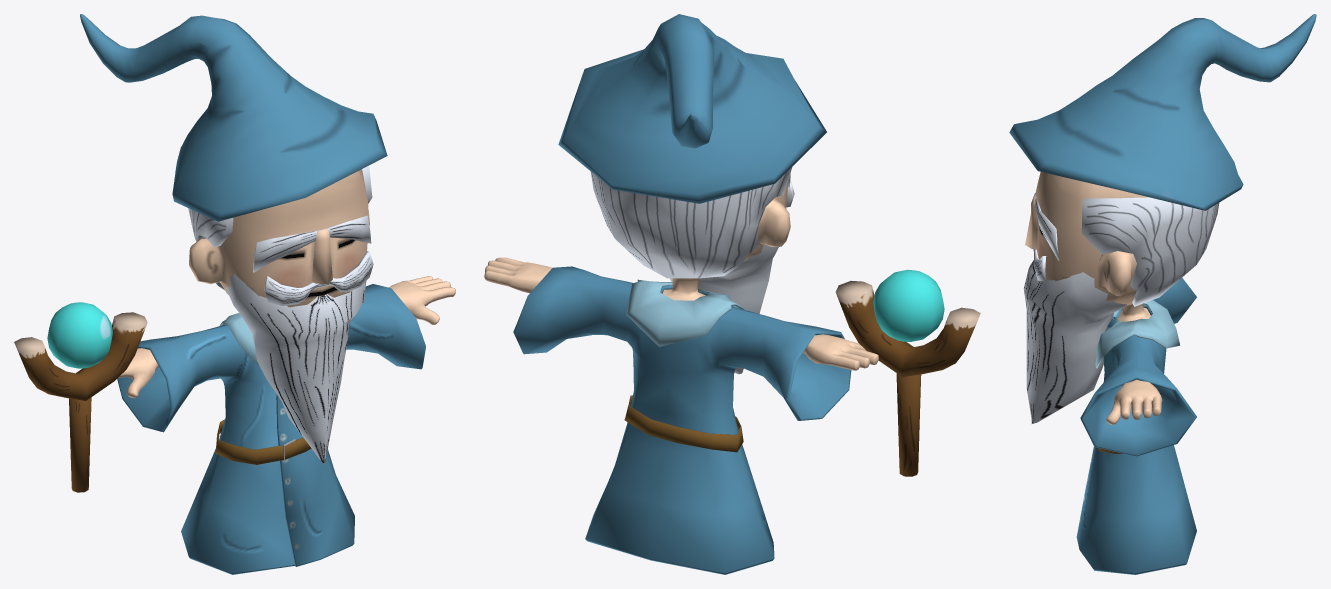
File: Character1.fbx
The picture shows the model from 3 angles, left to right: view 1: azimuth 30°, elevation 25°; view 2: azimuth 150°, elevation 25°; view 3: azimuth 270°, elevation 25°; orthographic projection. The views are drawn at different scales.
Visible parts, largest first — view 1: body.003, Cube.001, body.001, Plane.002, Cube.002, Plane, Plane.001, Cube.003, body.005, Cube, body.004; view 2: body.003, Cube.001, Cube.002, body.005, body.001, body.004, Plane.002, Cube.003; view 3: Cube.001, body.003, Plane.002, body.001, body.005, body.004, Plane, Cube.
Boxes of the visible parts, left/top/right/bottom form: body.003: left=117, top=284, right=425, bottom=574; Cube.001: left=80, top=14, right=387, bottom=221; body.001: left=118, top=169, right=455, bottom=398; Plane.002: left=226, top=274, right=366, bottom=464; Cube.002: left=14, top=302, right=147, bottom=492; Plane: left=253, top=215, right=371, bottom=272; Plane.001: left=264, top=251, right=373, bottom=305; Cube.003: left=215, top=419, right=311, bottom=464; body.005: left=188, top=166, right=372, bottom=290; Cube: left=312, top=228, right=332, bottom=284; body.004: left=219, top=313, right=258, bottom=364; body.003: left=513, top=266, right=851, bottom=574; Cube.001: left=558, top=14, right=826, bottom=203; Cube.002: left=835, top=269, right=980, bottom=476; body.005: left=590, top=166, right=792, bottom=278; body.001: left=484, top=182, right=878, bottom=370; body.004: left=626, top=279, right=744, bottom=346; Plane.002: left=669, top=244, right=778, bottom=374; Cube.003: left=624, top=395, right=743, bottom=452; Cube.001: left=1009, top=14, right=1316, bottom=210; body.003: left=1076, top=278, right=1196, bottom=574; Plane.002: left=1023, top=260, right=1126, bottom=424; body.001: left=1036, top=172, right=1162, bottom=424; body.005: left=1081, top=197, right=1219, bottom=306; body.004: left=1095, top=300, right=1180, bottom=368; Plane: left=1034, top=198, right=1059, bottom=260; Cube: left=1025, top=192, right=1037, bottom=249.
Size of the model in its own units: 424 by 471 by 260.
Materials: 1 (1 with a texture image).
